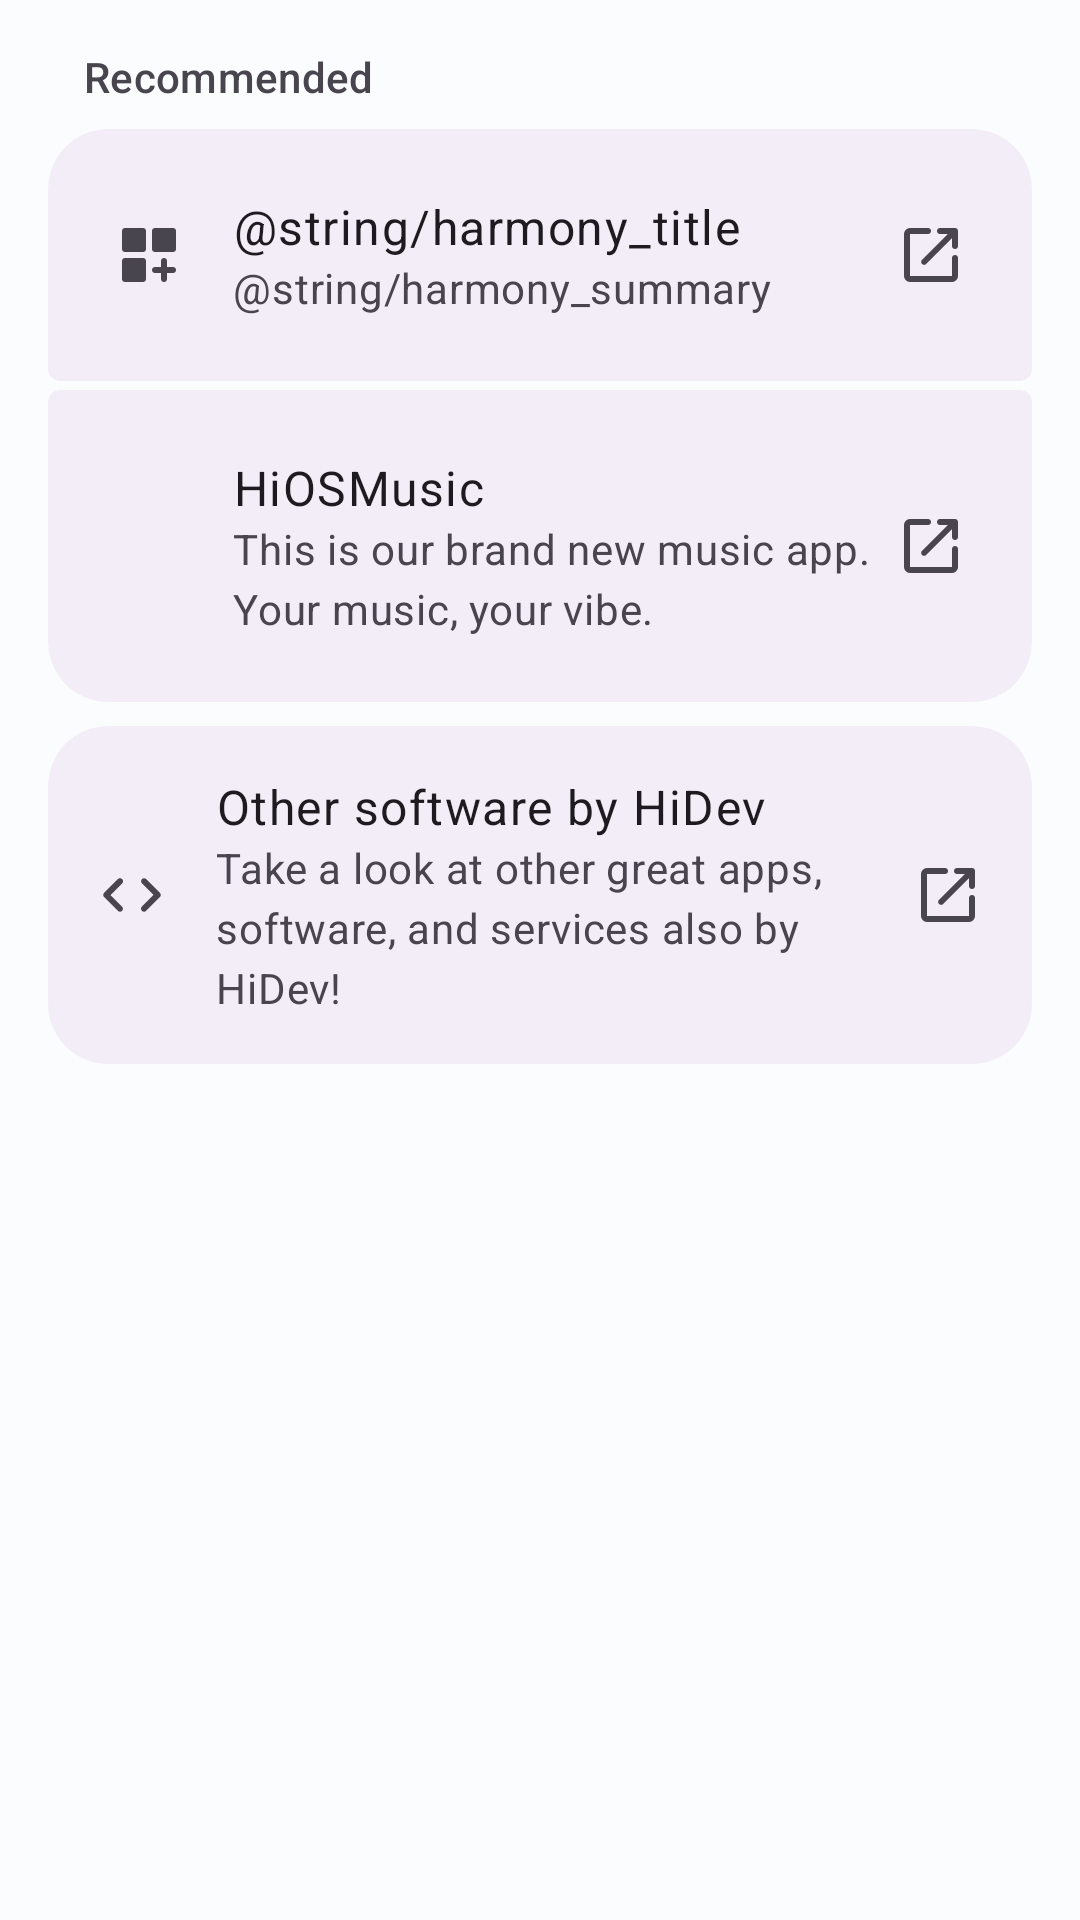

Icon bounding boxes for this 1080 x 1920 phone screenshot, format [x1,y1,x2,y2]:
open: [904,228,958,282], [904,519,958,573], [921,868,975,922]
